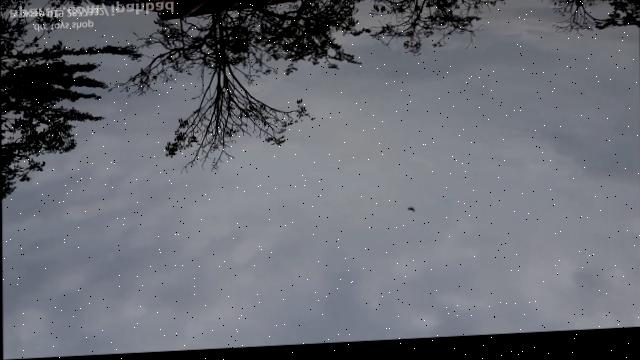drone: (405, 209, 417, 220)
